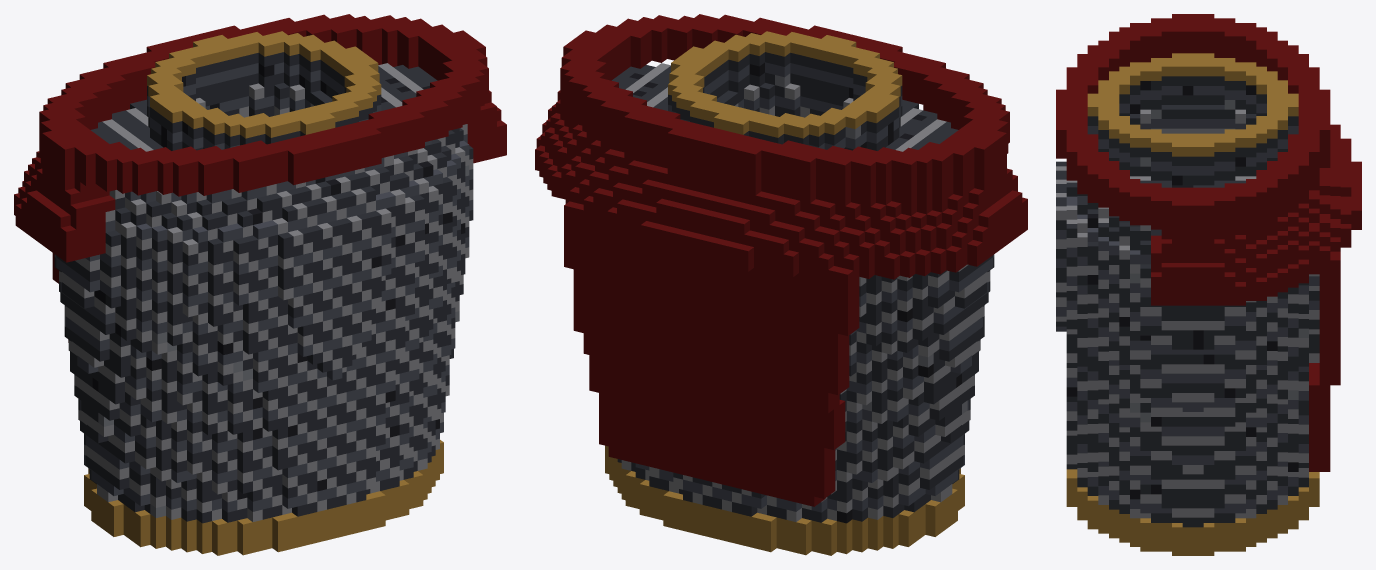
File: scale_rare_chest.glb
3 renders of one model, left to right at view 1: azimuth 30°, elevation 25°; view 2: azimuth 150°, elevation 25°; view 3: azimuth 270°, elevation 25°, orthographic. The views are drawn at different scales.
Visible parts, largest first — view 1: scale_rare_chest; view 2: scale_rare_chest; view 3: scale_rare_chest.
Boxes of the visible parts, x1=… form: scale_rare_chest: x1=14, y1=14, x2=506, y2=555; scale_rare_chest: x1=535, y1=14, x2=1027, y2=555; scale_rare_chest: x1=1056, y1=14, x2=1361, y2=555.
Size of the model in its own units: 0.54 by 0.48 by 0.348.
